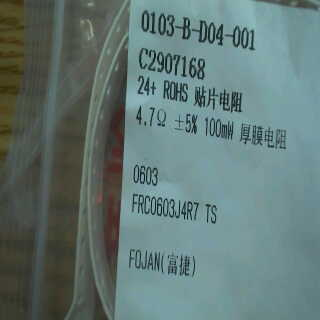4.7R: (134, 107, 169, 131)
